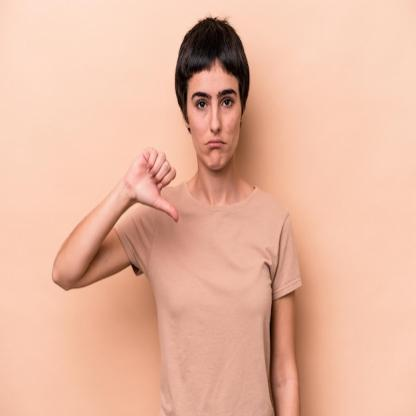thumb_down: (122, 144, 181, 226)
